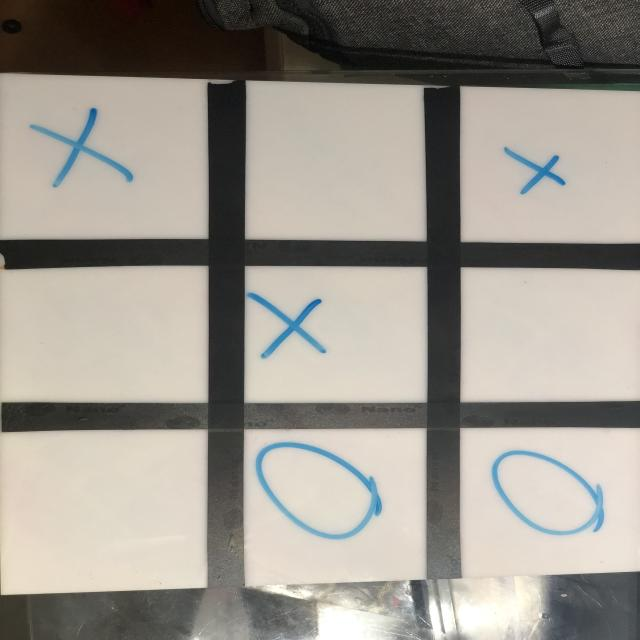null: (2, 427, 202, 591), (245, 79, 429, 241), (5, 267, 205, 404), (461, 267, 640, 404)
o: (254, 438, 384, 542), (491, 446, 606, 542)
table: (1, 73, 640, 596)
x: (24, 104, 144, 202), (249, 284, 333, 365), (503, 150, 579, 201)
